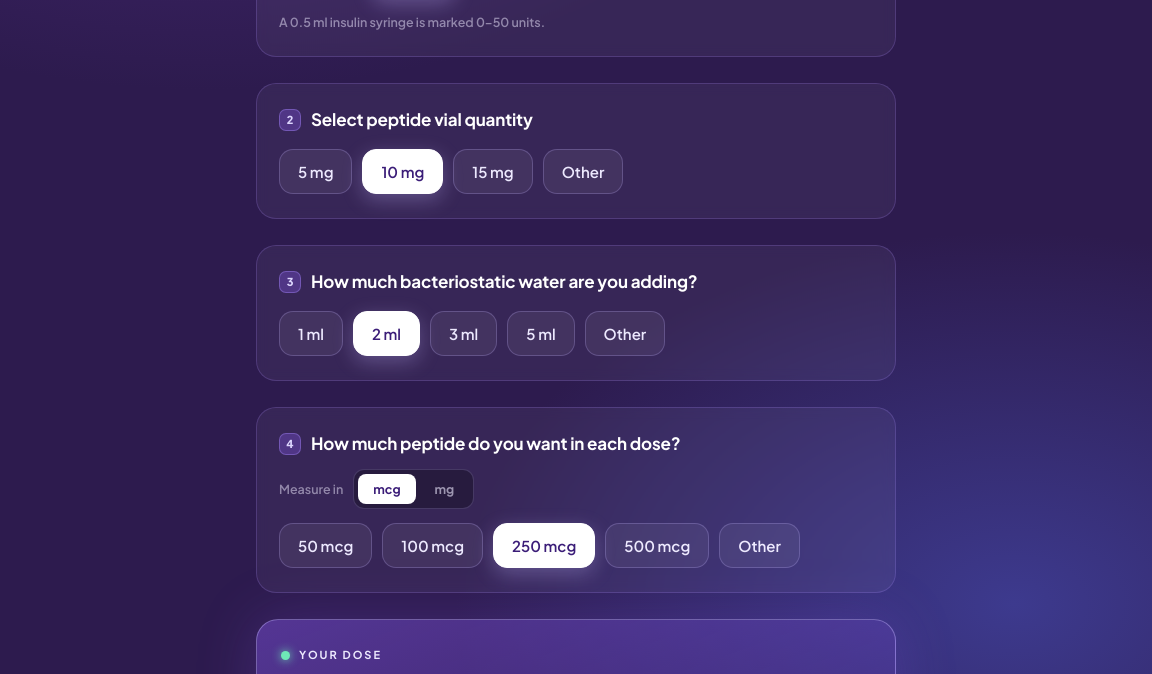
Test: PeptideCalculator — custom amounts › calculates from a hand-typed water volume
This screenshot has width=1152, height=674.
(page scrolled)
Step 1. Click the radio button with aria-label "other water volume" → (625, 334), box [585,311,665,356]
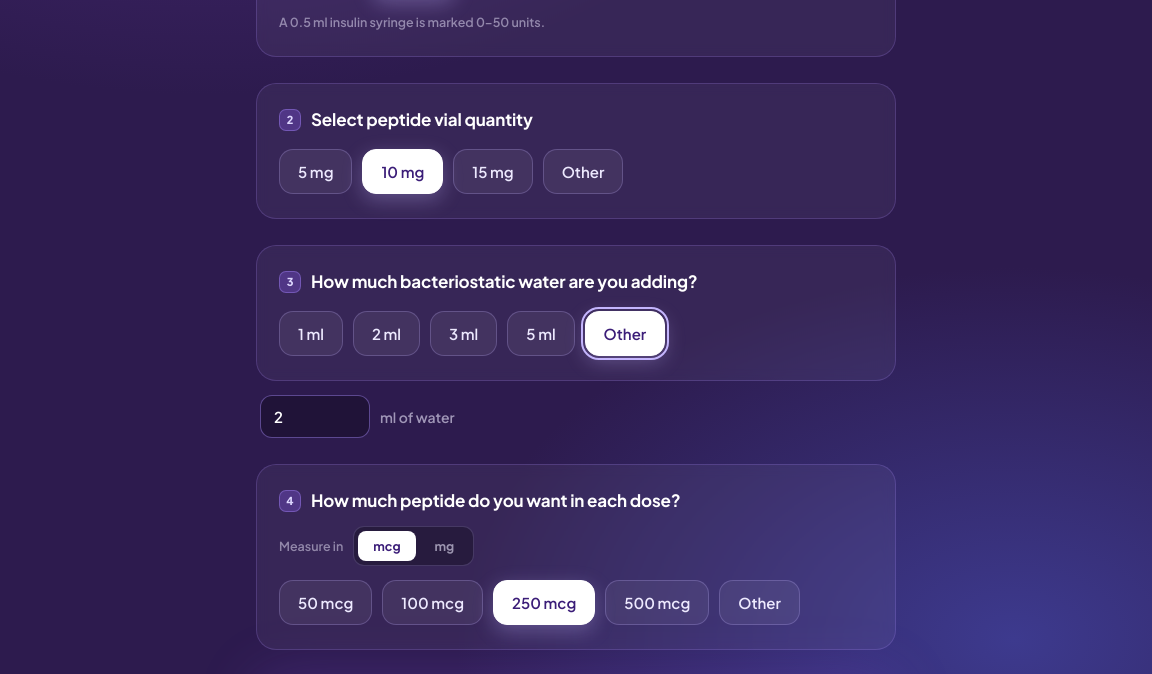
Step 2. Replace the text in the number field labelled "ml of water" with "4" → (315, 417), box [260,395,370,438]
(page scrolled)
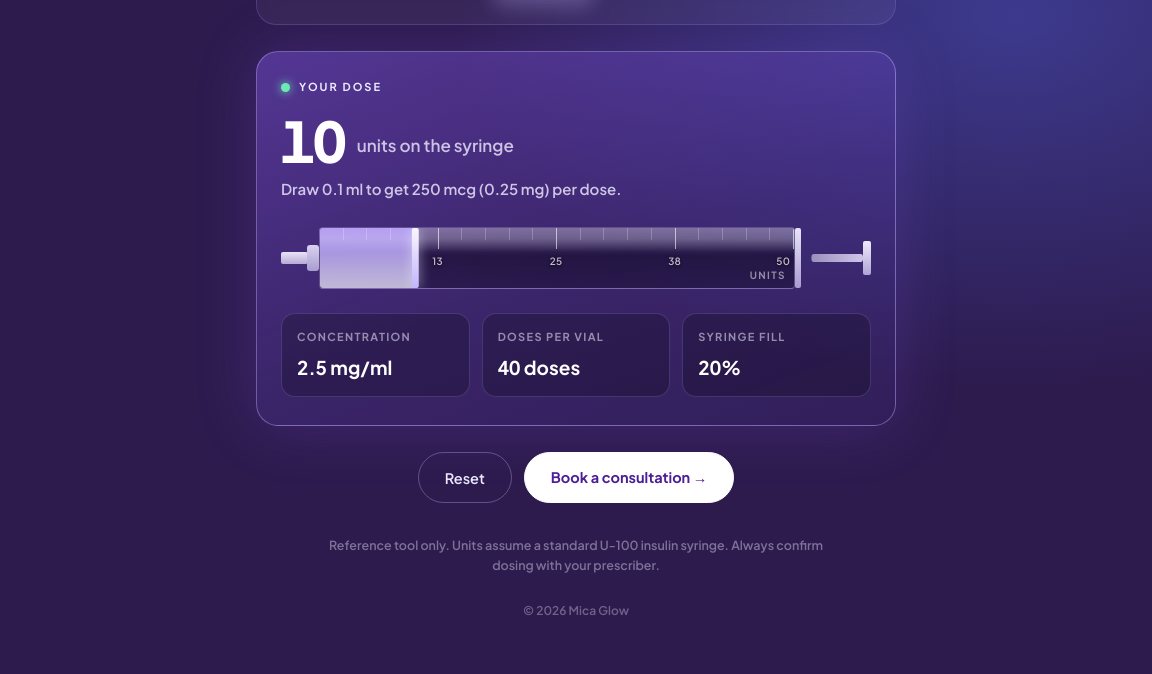
Now the text "2.5 mg/ml" is shown, box [297,355,392,379]
